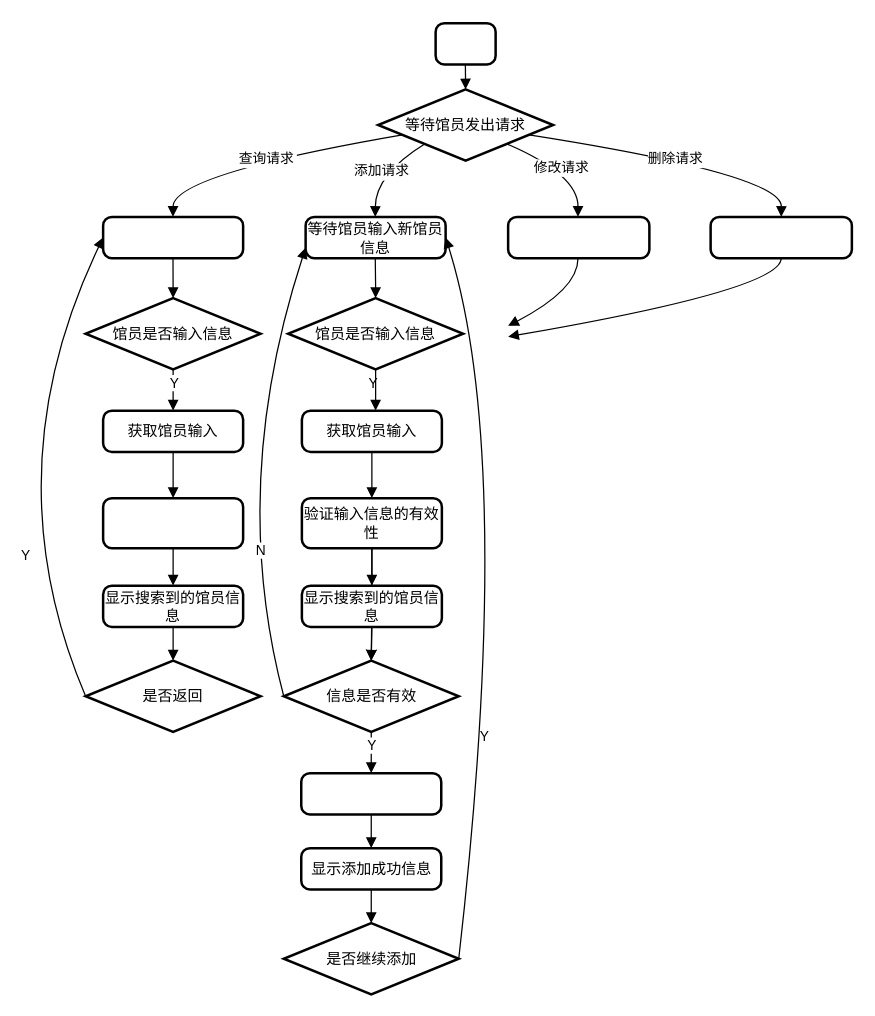
Image size: 875x1016. Some labels were removed from this diagram. Here are the shapes that lost their labels. From the top down, the centre of each, then its label:
point (465, 43): 开始
point (172, 237): 等待馆员输入搜索信息
point (578, 237): 修改馆员信息
point (780, 237): 删除馆员信息
point (172, 522): 根据输入关键字匹配馆员数据库中的馆员信息
point (370, 793): 将新馆员信息添加到馆员数据库
